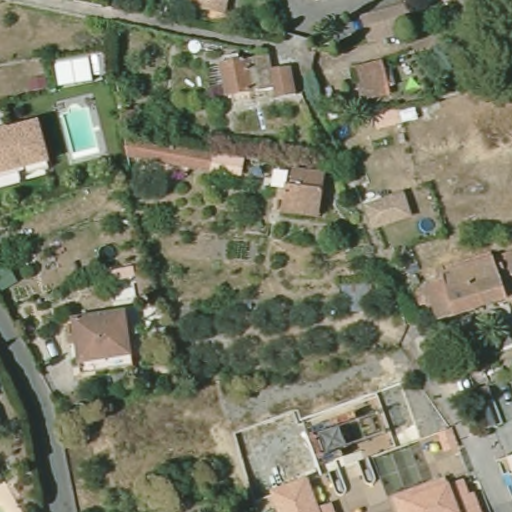pool: (55, 97, 104, 162)
